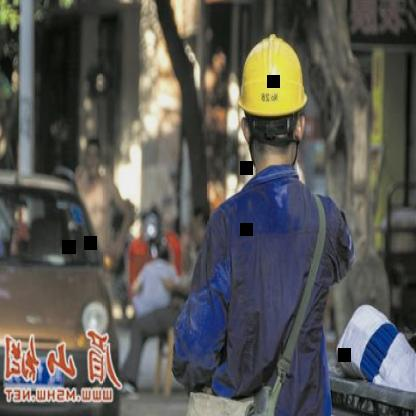helmet: (235, 25, 310, 170)
